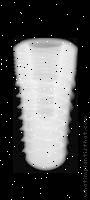Euroteknika: (13, 38, 78, 173)
